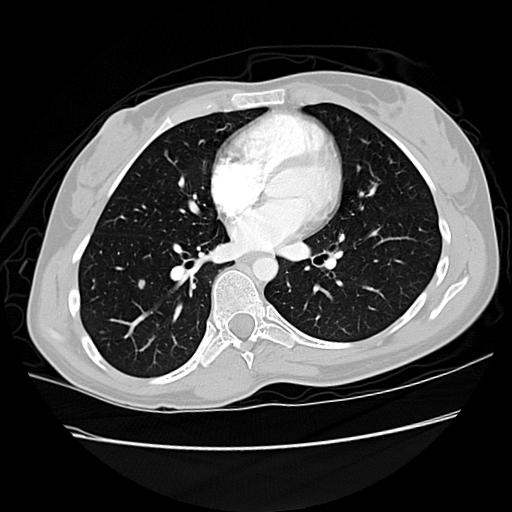nodule: (134, 277, 150, 293)
